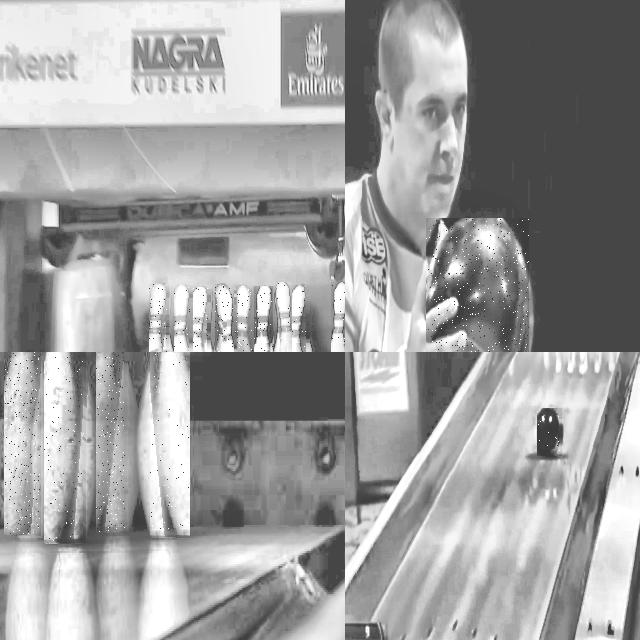bowling-ball: (427, 219, 529, 352), (537, 408, 560, 456)
bowling-pins: (45, 352, 84, 541), (4, 352, 41, 536), (153, 352, 189, 535), (97, 352, 125, 533), (150, 284, 167, 352), (255, 286, 272, 352), (235, 286, 252, 352), (277, 283, 292, 352), (292, 286, 307, 352), (175, 286, 190, 352), (331, 283, 345, 352), (220, 289, 235, 352), (194, 287, 208, 352), (216, 284, 227, 352)
